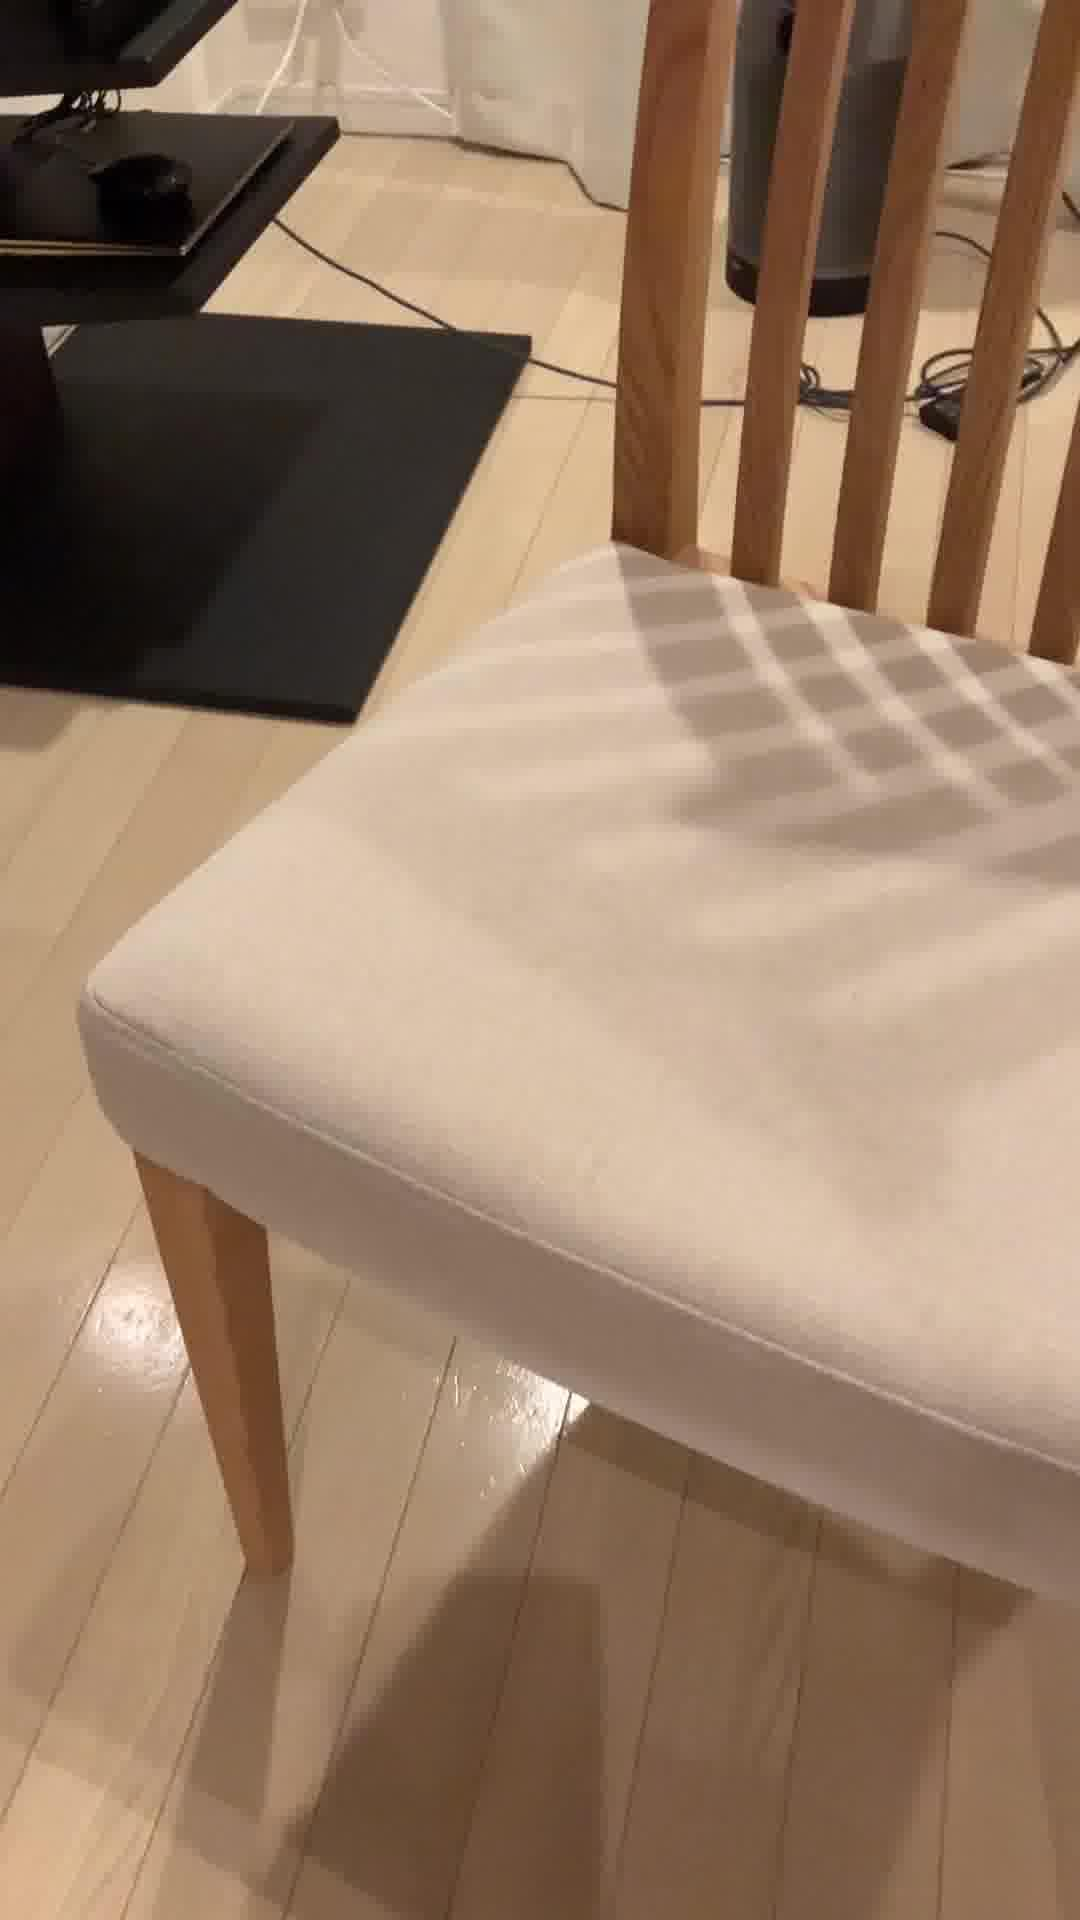takumikan-chair: (73, 0, 1080, 1622)
